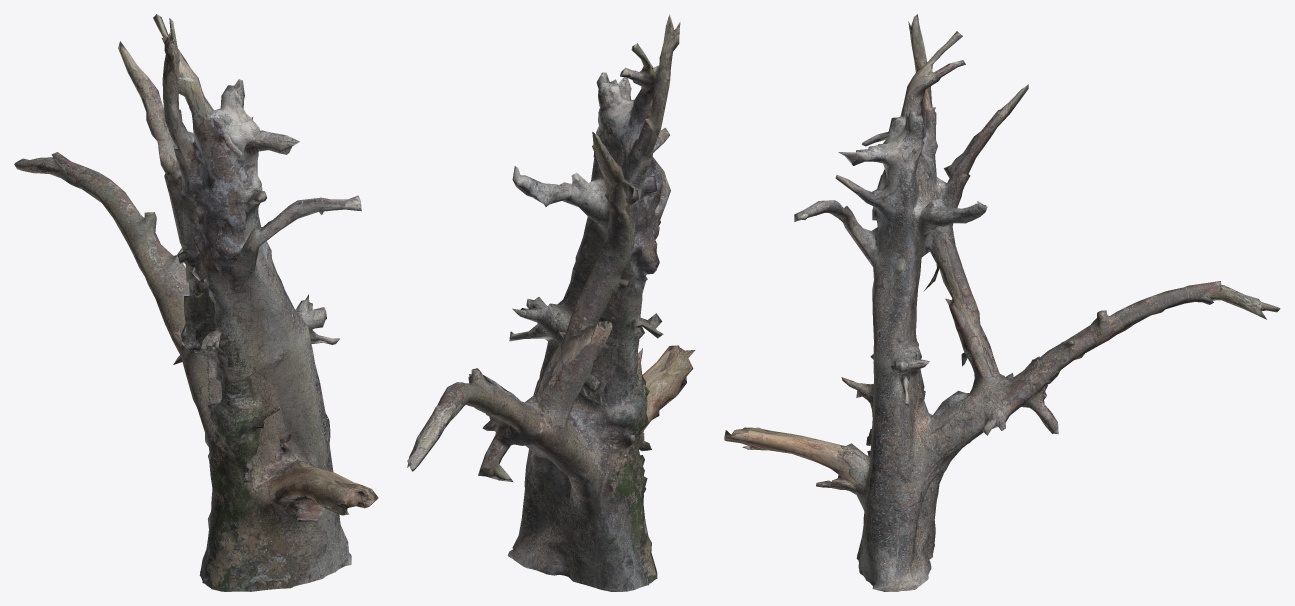
File: sm_TreeStump_06_03.fbx
3 renders of one model, left to right at view 1: azimuth 30°, elevation 25°; view 2: azimuth 150°, elevation 25°; view 3: azimuth 270°, elevation 25°, orthographic. The views are drawn at different scales.
Visible parts, largest first — view 1: sm_TreeStump_06_03_LOD0; view 2: sm_TreeStump_06_03_LOD0; view 3: sm_TreeStump_06_03_LOD0.
Boxes of the visible parts, x1,y1,x2,y2 form: sm_TreeStump_06_03_LOD0: [14, 14, 378, 591]; sm_TreeStump_06_03_LOD0: [407, 14, 695, 591]; sm_TreeStump_06_03_LOD0: [724, 14, 1280, 591].
Size of the model in its own units: 46.29 by 146 by 147.
